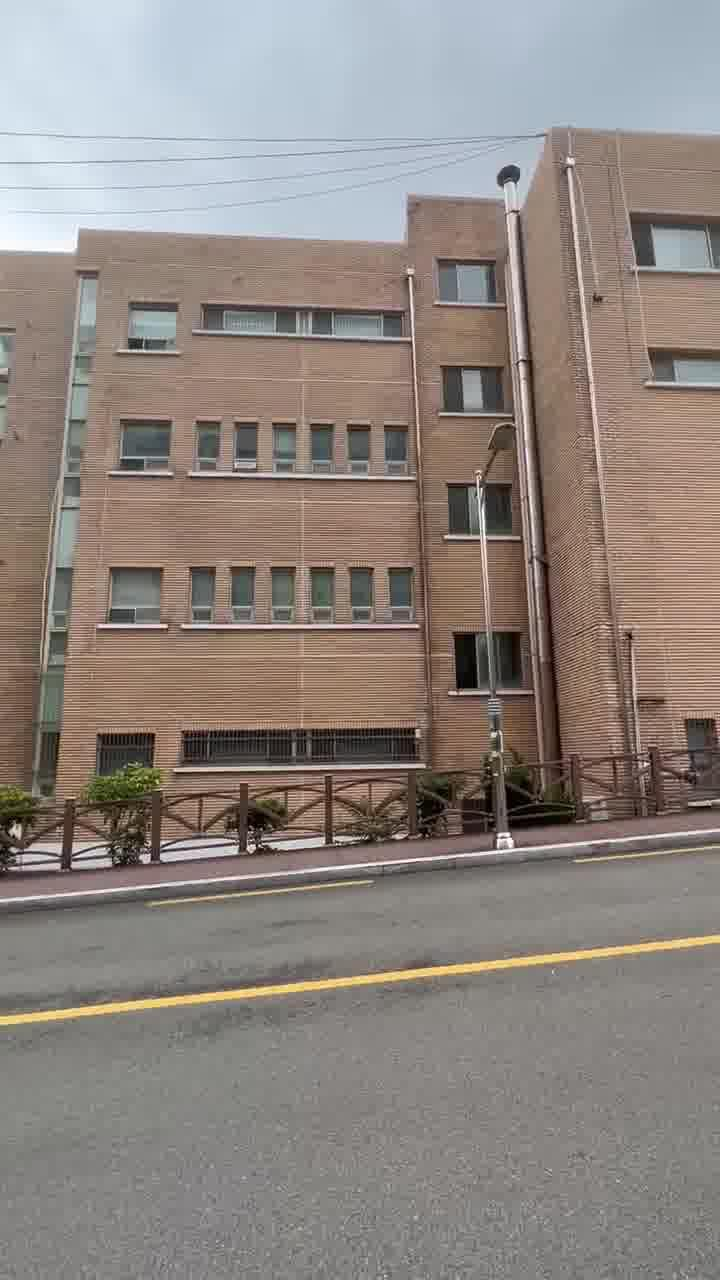building: (6, 154, 720, 756)
